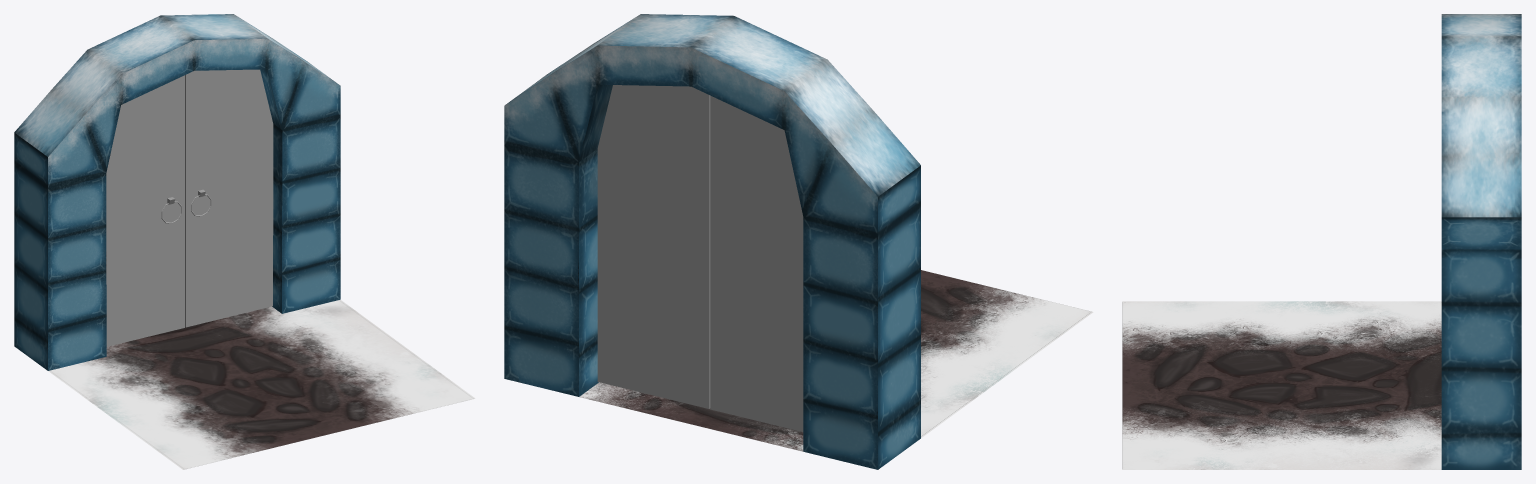
The model's file is Mod_Gate_2-5_SNow.fbx.
3 views of the same model, side by side, from view 1: azimuth 30°, elevation 25°; view 2: azimuth 150°, elevation 25°; view 3: azimuth 270°, elevation 25° (orthographic). The views are drawn at different scales.
Visible parts, largest first — view 1: pCube11, pCube8, pCube9; view 2: pCube11, pCube8, pCube9; view 3: pCube11.
Boxes of the visible parts, x1,y1,x2,y2 form: pCube11: [14, 14, 475, 469]; pCube8: [185, 69, 273, 327]; pCube9: [106, 75, 184, 346]; pCube11: [504, 14, 1093, 469]; pCube8: [597, 85, 710, 408]; pCube9: [710, 95, 803, 431]; pCube11: [1122, 14, 1521, 469].
Bounding box in the file's own units: 100 × 96.41 × 100.
